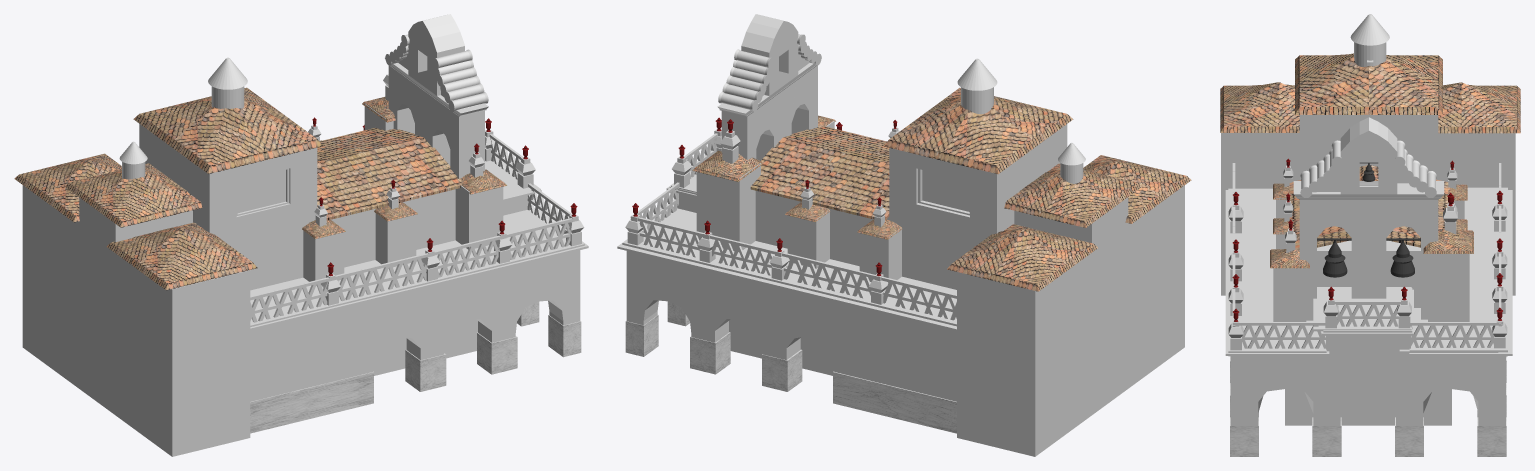
The model's file is Hermita de Carrionfbx.fbx.
3 views of the same model, side by side, from view 1: azimuth 30°, elevation 25°; view 2: azimuth 150°, elevation 25°; view 3: azimuth 270°, elevation 25° (orthographic).
Visible parts, largest first — view 1: Cube.015, Plane, Cube.013, Cube.014, Cube.026, Cube.016, Cube.027, Plane.015, Cube.017, Plane.009, Cube.028, Cube.020 (+12 smaller); view 2: Cube.015, Plane, Cube.013, Cube.014, Cube.026, Cube.016, Cube.028, Plane.017, Cube.017, Plane.010, Cube.022, Cube.027 (+11 smaller); view 3: Cube.014, Plane, Cube.015, Cube.016, Cube.013, Plane.015, Plane.017, Cube, Cube.028, Cube.027, Cube.022, Plane.023 (+26 smaller).
Boxes of the visible parts, x1,y1,x2,y2 form: Cube.015: (22,185,250,456); Plane: (250,250,580,401); Cube.013: (139,124,455,290); Cube.014: (384,14,488,178); Cube.026: (317,127,461,220); Cube.016: (133,87,322,173); Cube.027: (106,222,257,290); Plane.015: (250,207,584,326); Cube.017: (65,163,202,227); Plane.009: (250,371,373,433); Cube.028: (14,153,121,222); Cube.020: (455,185,503,249); Cube.015: (957,185,1184,456); Plane: (626,251,956,401); Cube.013: (755,124,1067,289); Cube.014: (717,14,821,160); Cube.026: (750,126,889,219); Cube.016: (883,88,1073,174); Cube.028: (947,224,1097,291); Plane.017: (622,208,956,326); Cube.017: (1004,163,1141,227); Plane.010: (833,371,956,433); Cube.022: (696,163,760,252); Cube.027: (1083,155,1191,223); Cube.014: (1293,117,1444,320); Plane: (1230,335,1505,425); Cube.015: (1221,133,1515,295); Cube.016: (1295,53,1442,114); Cube.013: (1299,115,1438,307); Plane.015: (1228,188,1326,352); Plane.017: (1409,187,1507,352); Cube: (1285,359,1451,425); Cube.028: (1438,82,1520,133); Cube.027: (1220,82,1299,132); Cube.022: (1428,254,1469,321); Plane.023: (1313,287,1411,331).
Bounding box in the file's own units: 699 × 488 × 433.
